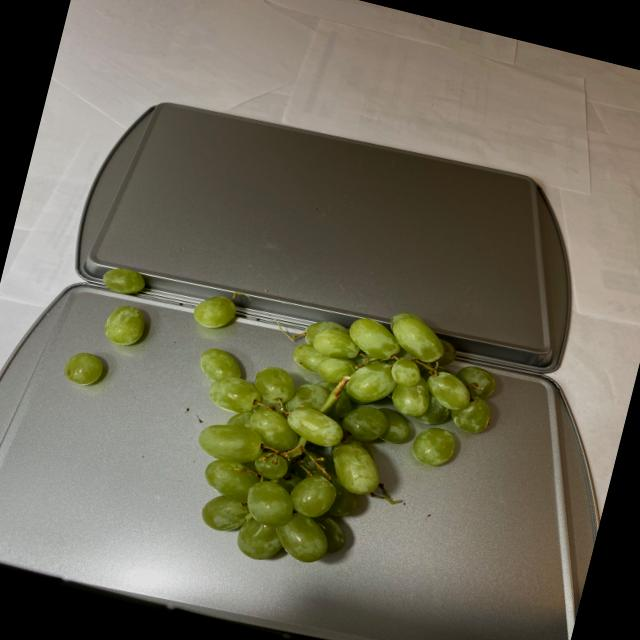grapes: (139, 264, 514, 609), (56, 254, 162, 396)
